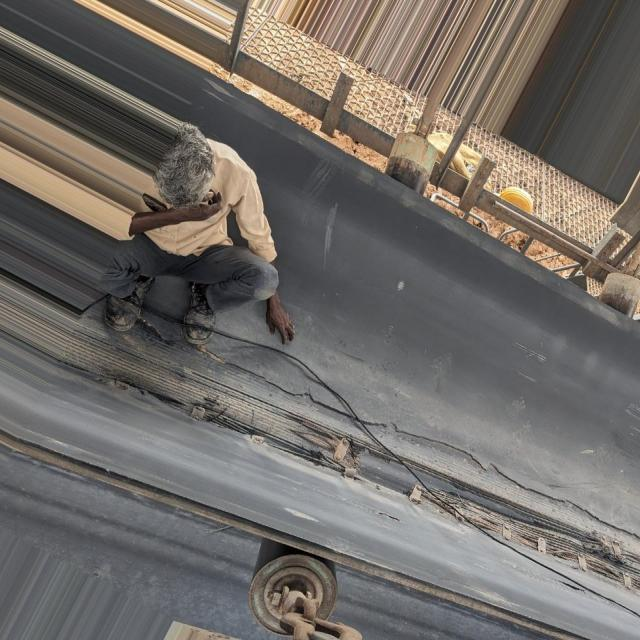Human: (89, 130, 294, 348)
Roller: (249, 537, 336, 635), (380, 132, 446, 193), (598, 278, 640, 315)
Tear: (78, 312, 640, 587)
